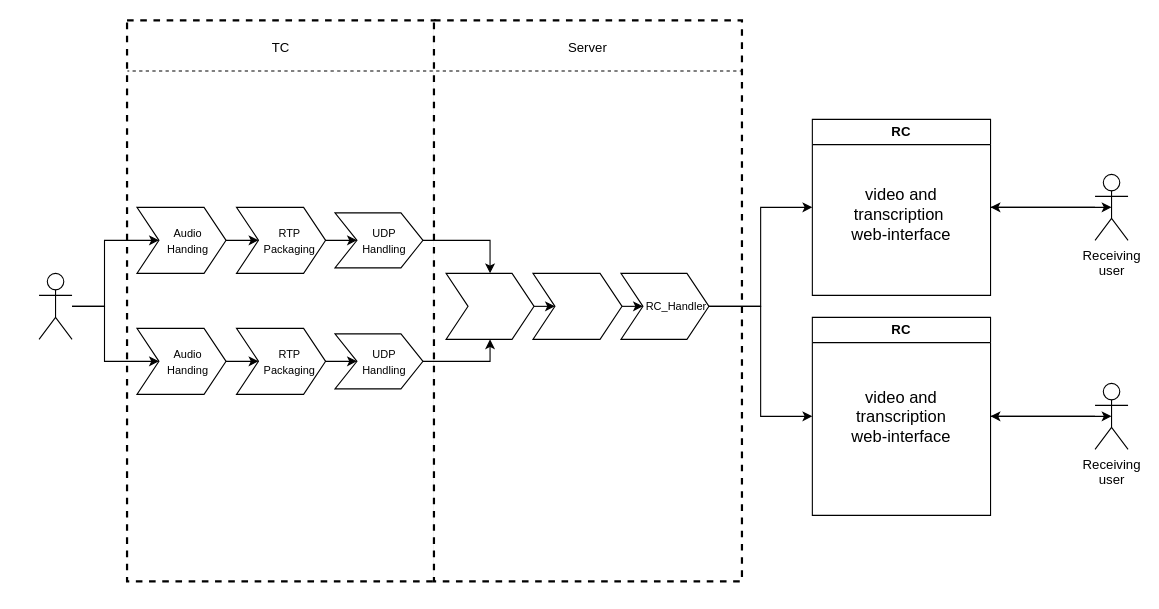
Image size: 1159x609. Some labels were removed from this diagram. Each missing label, with the centre of its shape:
"TC_Handler" goes at point (489, 305).
"Transcriptor" goes at point (577, 305).
"Transmitting user" goes at point (55, 305).
